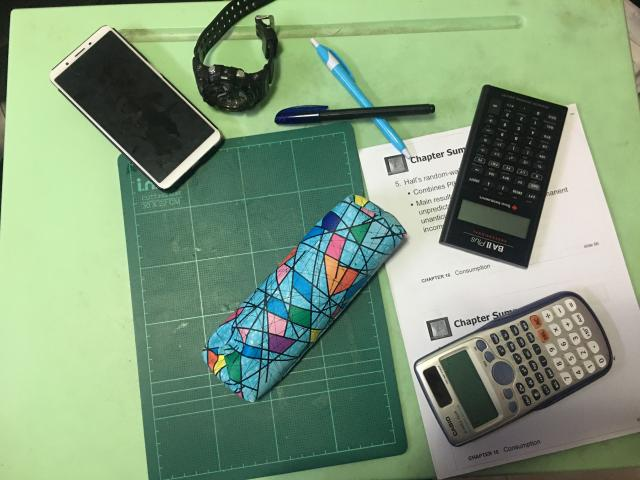Mobile phone: (48, 26, 227, 195)
Pen: (276, 41, 438, 147)
Watch: (193, 0, 282, 114)
paper: (355, 106, 640, 480)
